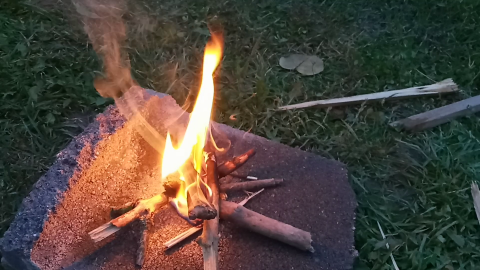fire: (149, 29, 230, 216)
